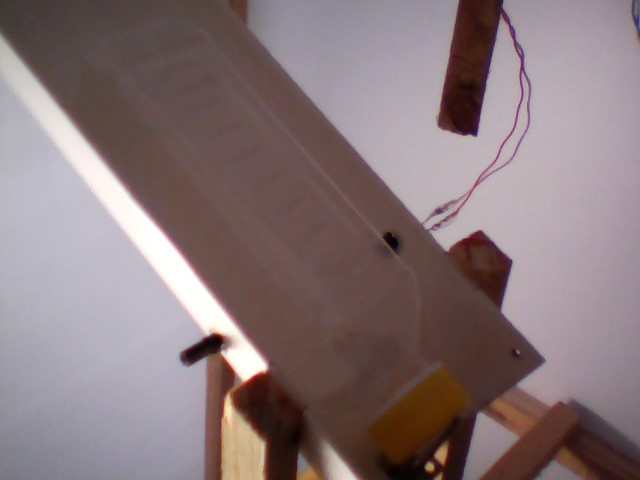plastico: (67, 14, 475, 471)
